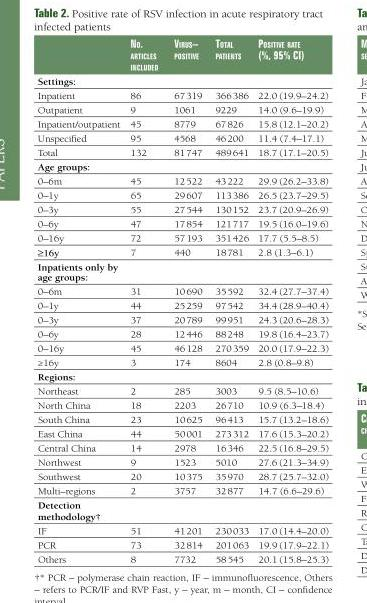table: (36, 36, 328, 564)
table column: (36, 36, 124, 564), (252, 36, 328, 564), (208, 36, 252, 564), (165, 36, 208, 564), (124, 36, 165, 564)
table column header: (36, 36, 328, 74)
table projected row header: (36, 498, 328, 524), (36, 260, 328, 284), (36, 74, 328, 88), (36, 160, 328, 174), (36, 370, 328, 384)
table row: (36, 36, 328, 74), (36, 498, 328, 524), (36, 260, 328, 284), (36, 244, 328, 260), (36, 88, 328, 103), (36, 145, 328, 160), (36, 202, 328, 217), (36, 284, 328, 299), (36, 341, 328, 356), (36, 398, 328, 413), (36, 469, 328, 484), (36, 74, 328, 88), (36, 103, 328, 117), (36, 117, 328, 131), (36, 131, 328, 145), (36, 160, 328, 174), (36, 174, 328, 188), (36, 188, 328, 202), (36, 217, 328, 231), (36, 299, 328, 313), (36, 313, 328, 327), (36, 327, 328, 341), (36, 356, 328, 370), (36, 370, 328, 384), (36, 384, 328, 398), (36, 413, 328, 427), (36, 427, 328, 441), (36, 441, 328, 455), (36, 455, 328, 469), (36, 484, 328, 498), (36, 524, 328, 538), (36, 538, 328, 552), (36, 231, 328, 244), (36, 552, 328, 564)
